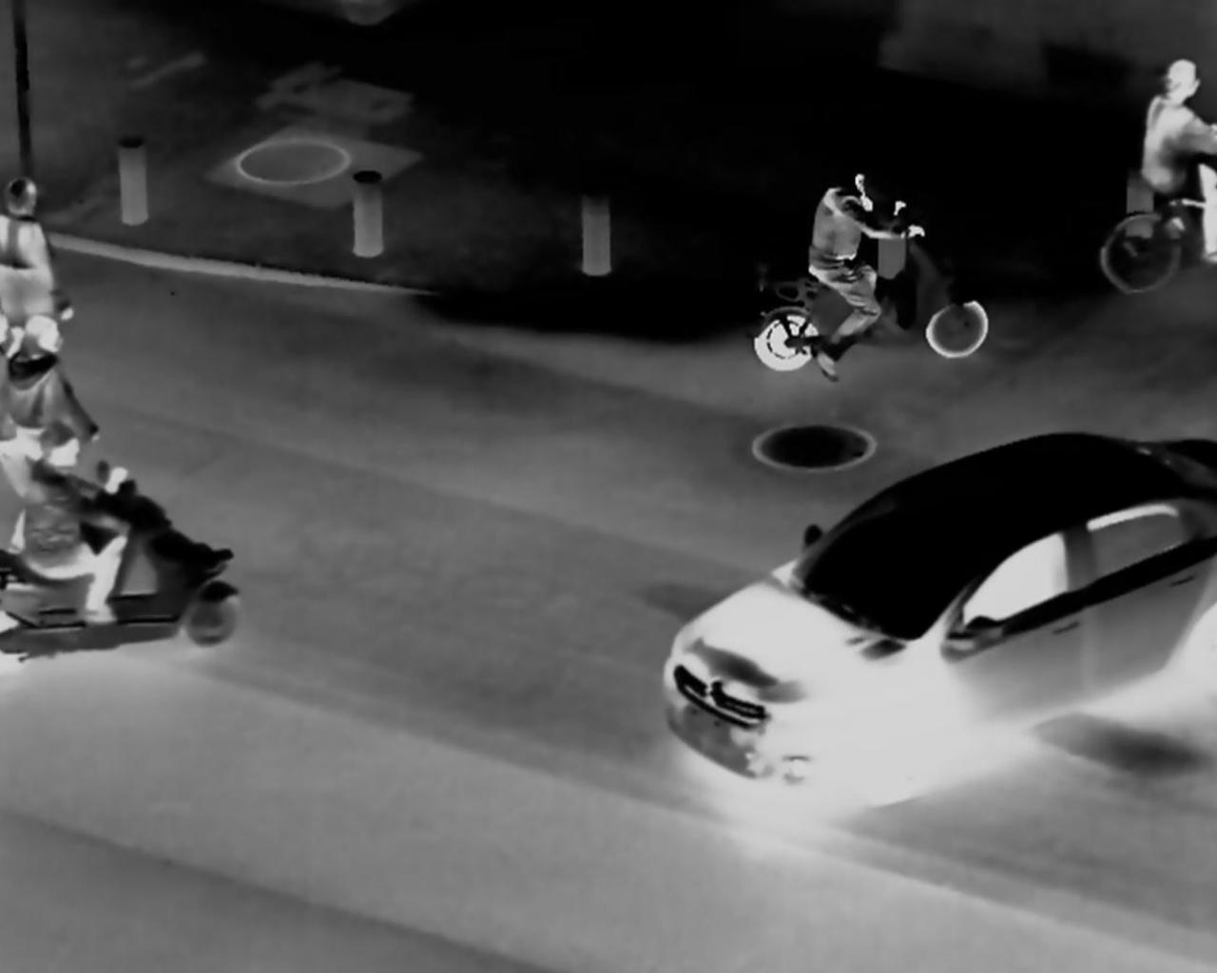person: (20, 421, 130, 634), (798, 168, 890, 377), (1120, 48, 1217, 246), (13, 315, 96, 444)
